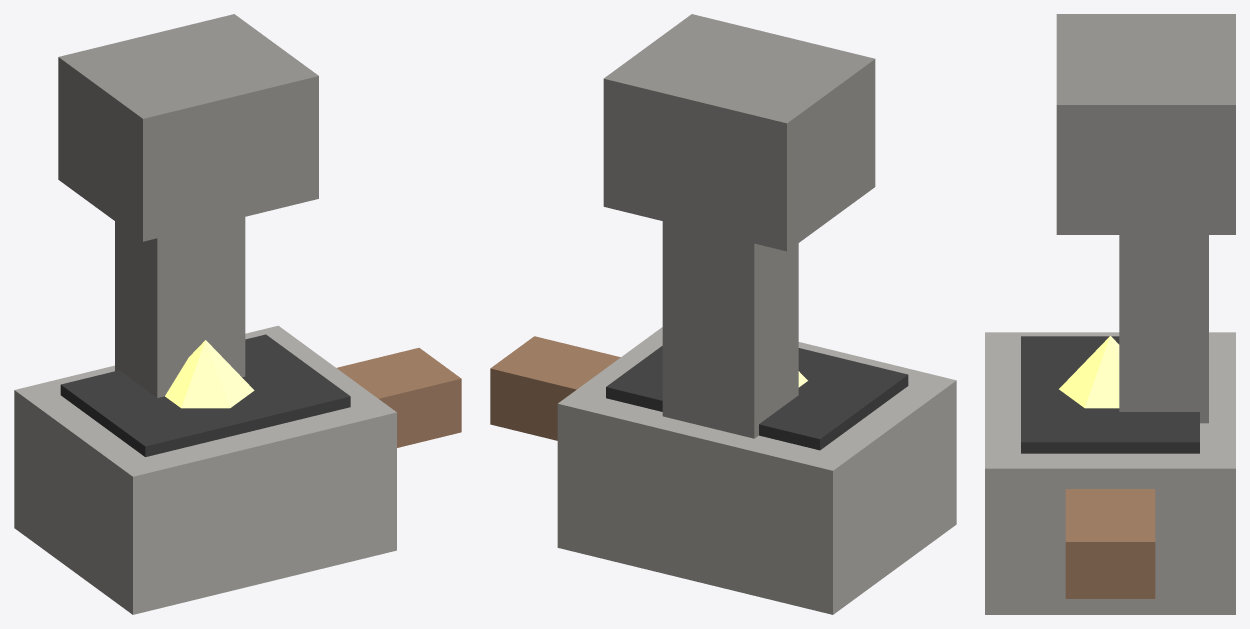
File: forge.glb
The picture shows the model from 3 angles, left to right: view 1: azimuth 30°, elevation 25°; view 2: azimuth 150°, elevation 25°; view 3: azimuth 270°, elevation 25°; orthographic projection. The views are drawn at different scales.
Visible parts, largest first — view 1: forge; view 2: forge; view 3: forge.
Boxes of the visible parts, x1,y1,x2,y2 form: forge: (14, 14, 461, 614); forge: (490, 14, 956, 614); forge: (985, 14, 1235, 614).
Bounding box in the file's own units: 2.5 × 3 × 1.4.
